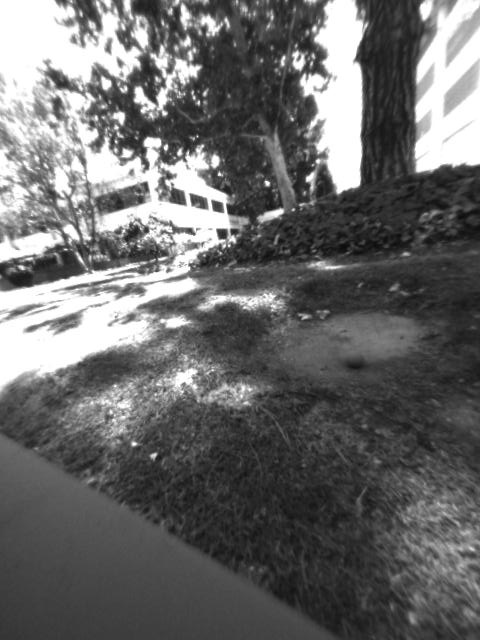dogtoy: (332, 340, 374, 372)
